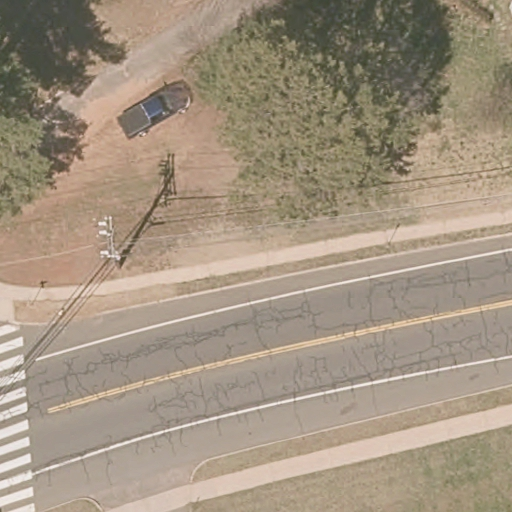DT: (97, 214, 128, 266)
